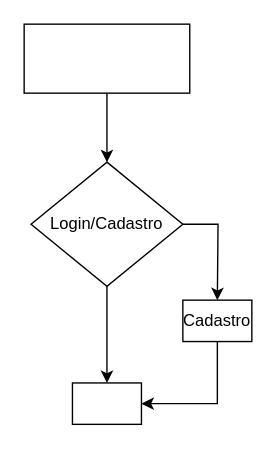
Some shapes in this 276 by 449 pixel diagram are drawn without their labels. Here are the shapes that lost their labels. From the top down, the box of each, then its label:
(23, 23, 190, 93): Usuário
(71, 382, 141, 424): Login
